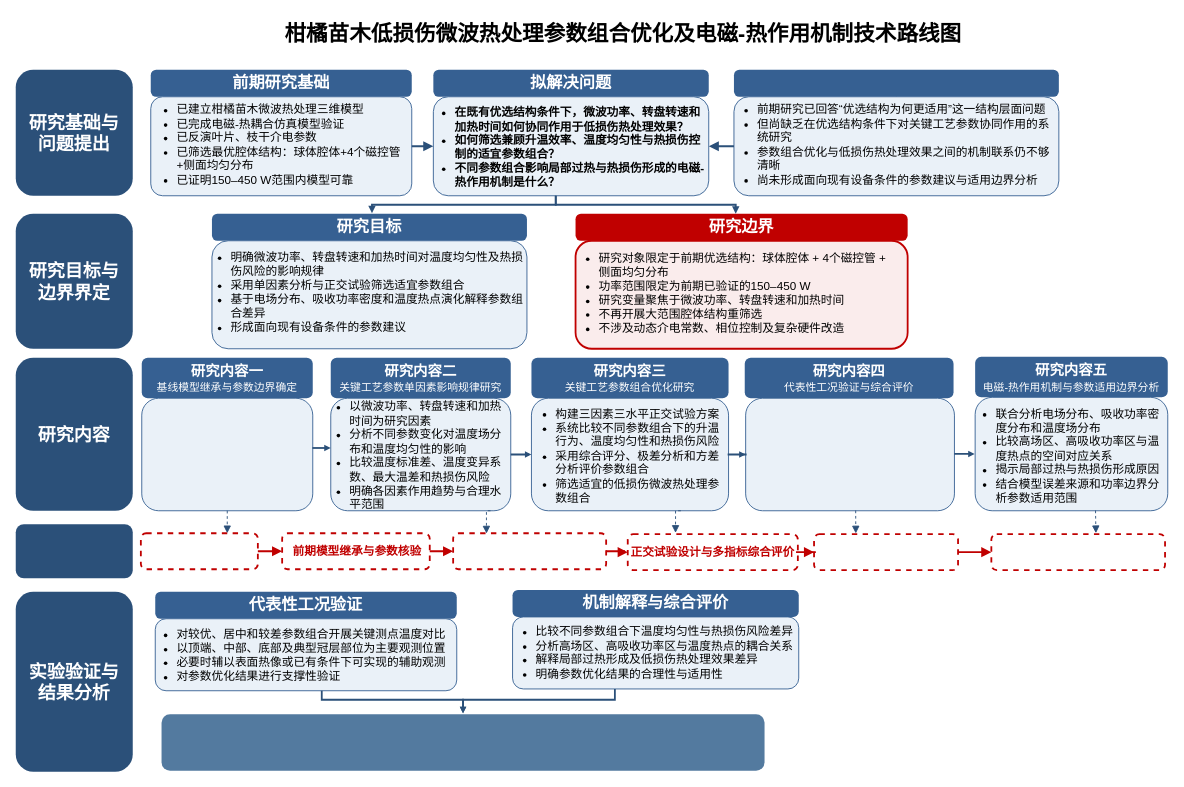
The diagram is 1184 pixels wide and 787 high, and some of its shapes have lost their labels. Each missing label, with the centre of its shape:
从较优、居中和较差参数组合中选取代表性工况 对关键测点温度进行对比分析 对参数优化结果的合理性和代表性进行验证支撑 形成综合评价结论: the point at 849,454
代表性工况筛选与验证分析: the point at 885,552
单因素参数化仿真分析: the point at 529,551
形成适宜参数组合建议 阐明参数组合影响低损伤热处理效果的电磁-热作用机制，为现有设备运行参数设定和工艺优化提供依据: the point at 462,742
技术方法与 实施路径: the point at 73,551
文献分析与理论梳理: the point at 199,551
现有不足: the point at 896,82
电磁-热联合后处理与机制解释: the point at 1078,552
继承前期已验证三维模型、介电参数和电磁-热耦合框架 固定优选结构作为基线结构 明确研究功率范围与关键参数边界 建立参数分析与结果后处理流程: the point at 227,454
